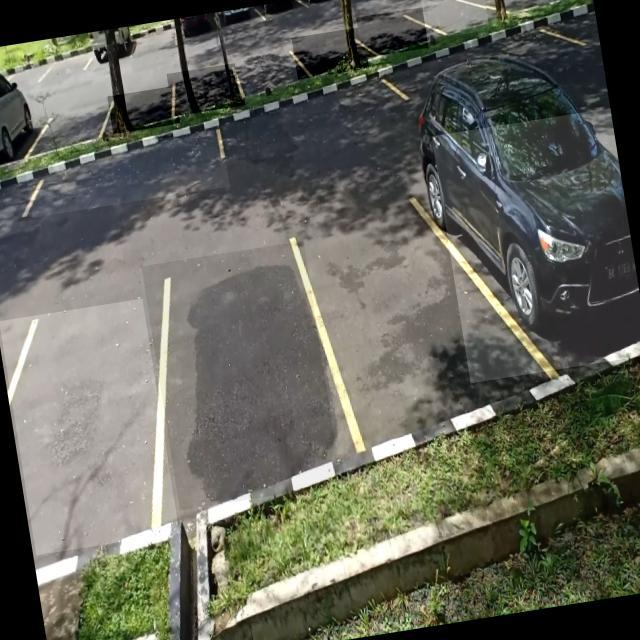empty: (141, 240, 346, 510), (298, 188, 496, 455), (0, 298, 179, 555), (23, 129, 230, 218), (214, 80, 412, 165), (30, 97, 115, 156), (167, 62, 246, 116), (292, 27, 370, 79), (233, 43, 306, 98), (100, 86, 180, 136), (356, 7, 429, 58), (420, 0, 489, 39), (481, 0, 549, 21)
occupied: (431, 108, 640, 383), (0, 79, 41, 171)
